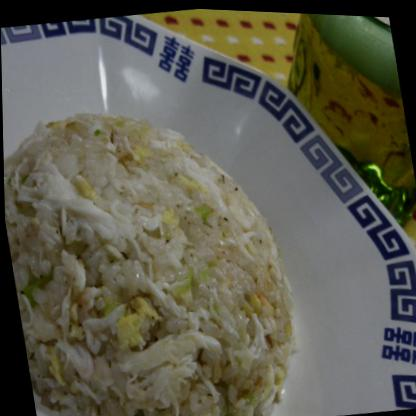fried rice: (1, 70, 314, 415)
